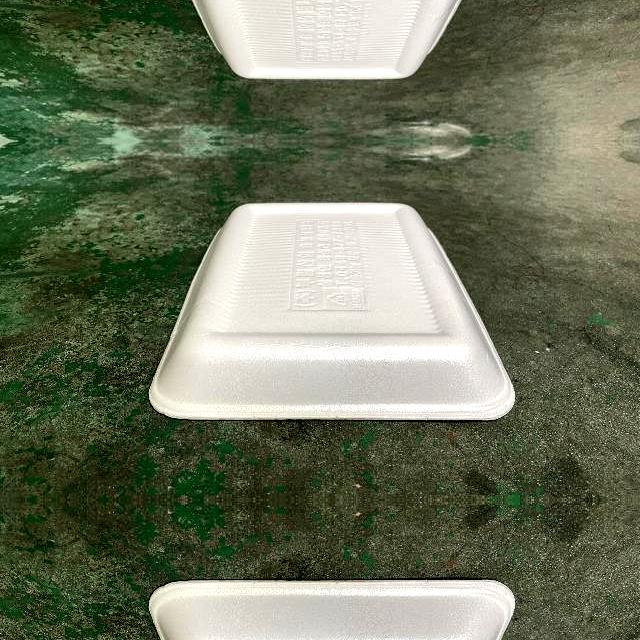Styrofoam: (147, 200, 516, 418), (149, 201, 516, 420), (146, 0, 515, 80), (149, 578, 516, 640), (146, 579, 515, 640), (192, 0, 461, 79)
